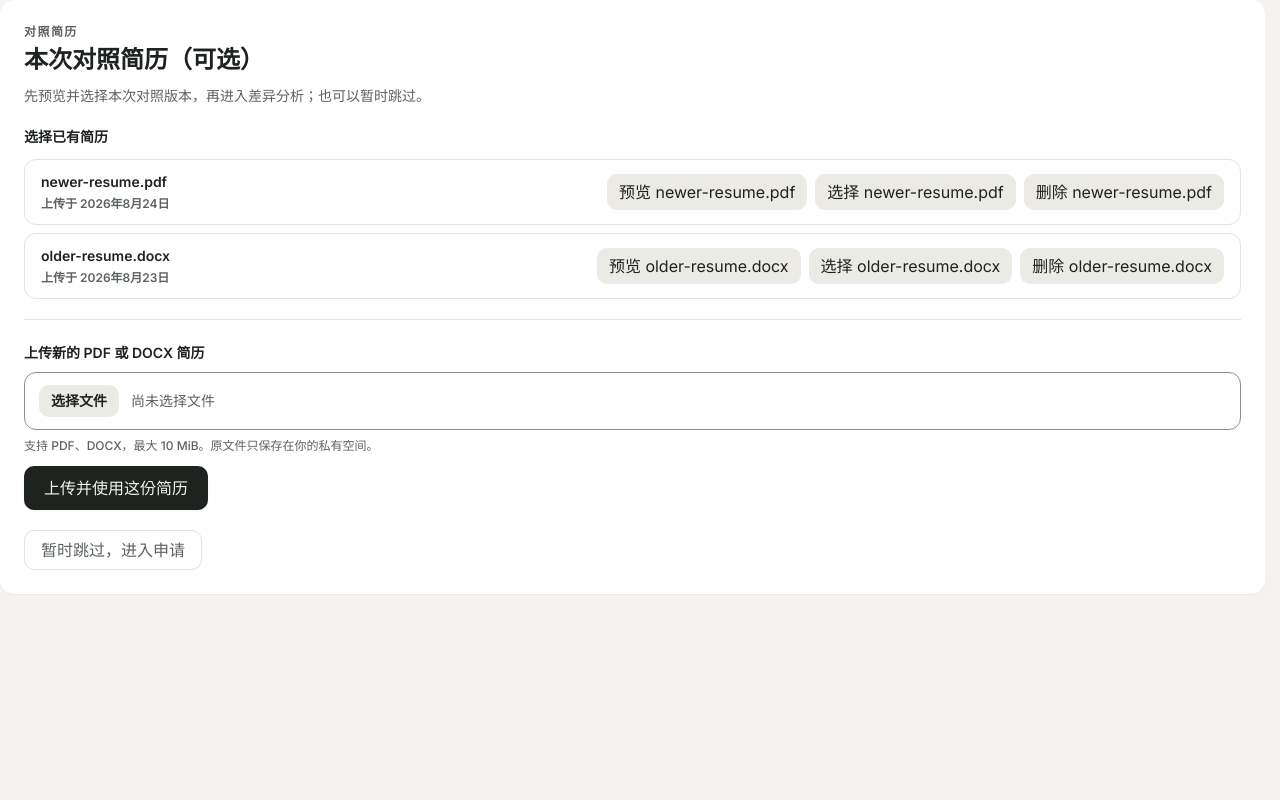
it: BaselineSelector › confirms a deleted file is gone and says the derived work survived
Click the button "删除 newer-resume.pdf" at (1124, 192), box top-left (1024, 174), bottom-right (1224, 210)
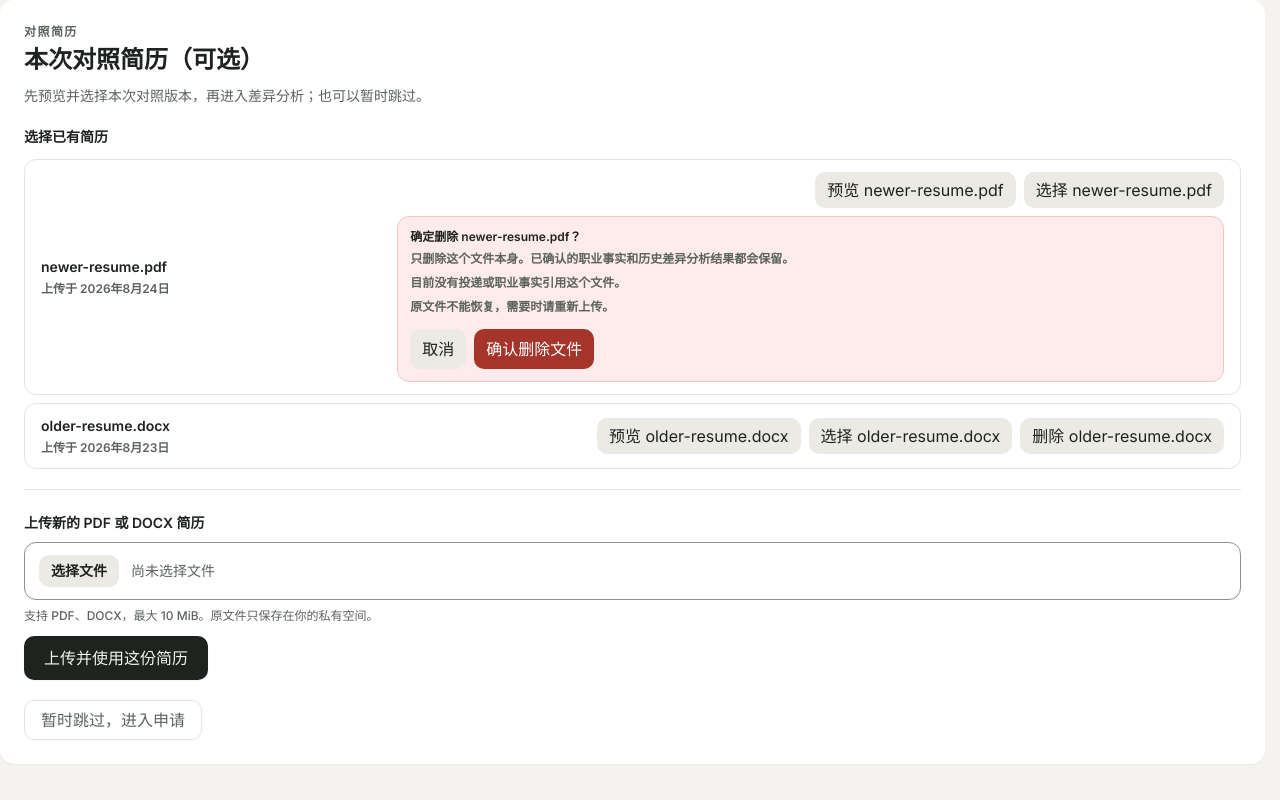
Click the button "确认删除文件" at (534, 349), box top-left (474, 329), bottom-right (594, 369)
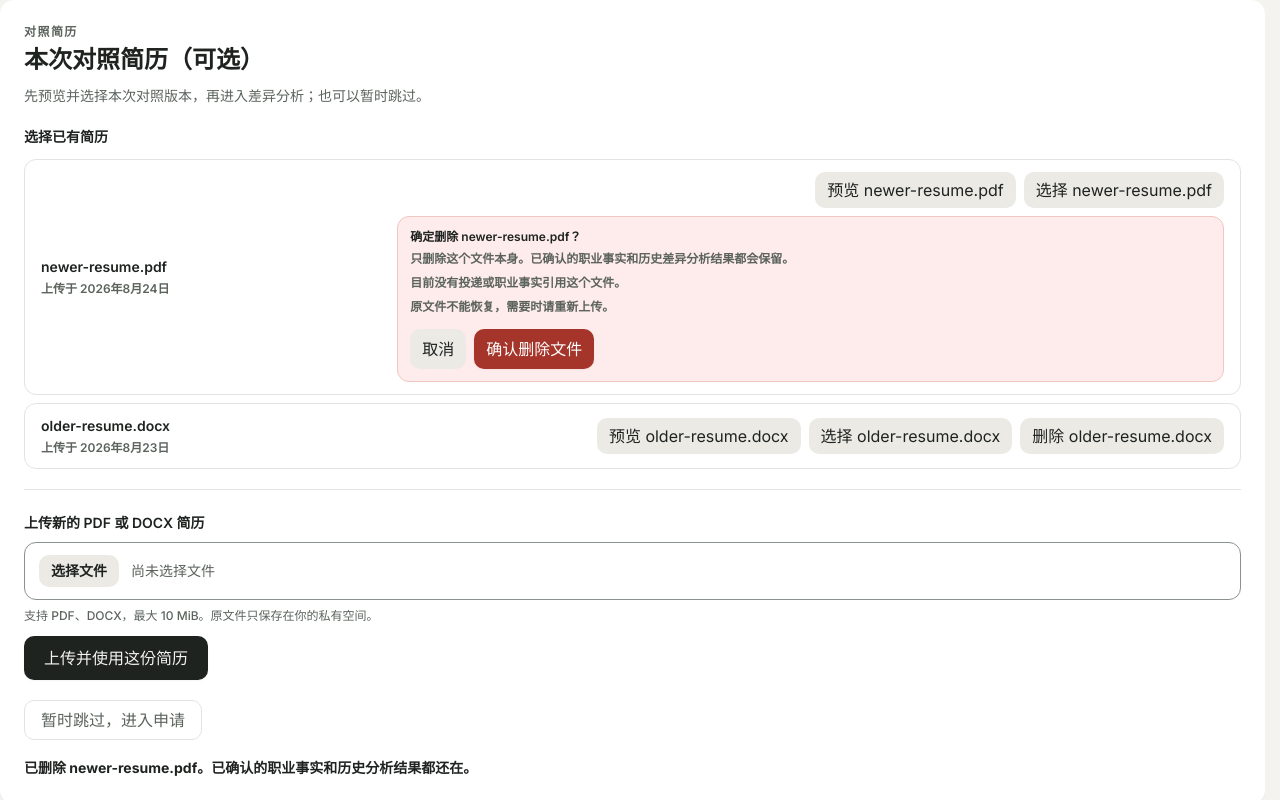
Expected: the message "已删除 newer-resume.pdf。已确认的职业事实和历史分析结果都还在。" is shown, top-left (24, 759), bottom-right (477, 776)
